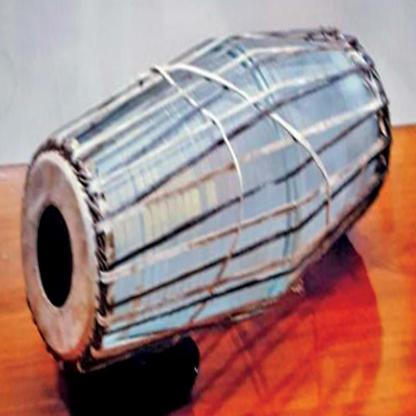Mridangam: (19, 17, 392, 370)
